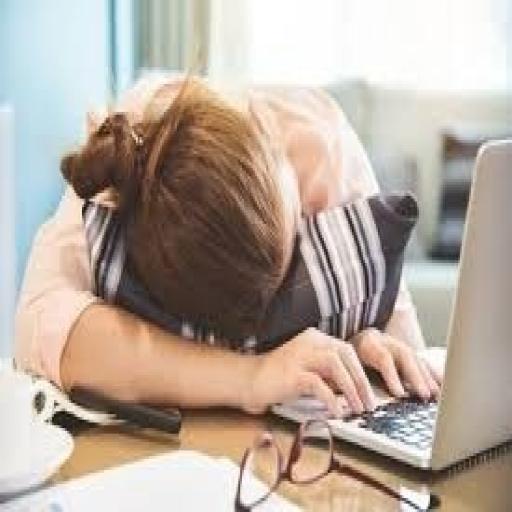sleeping: (15, 67, 443, 420)
